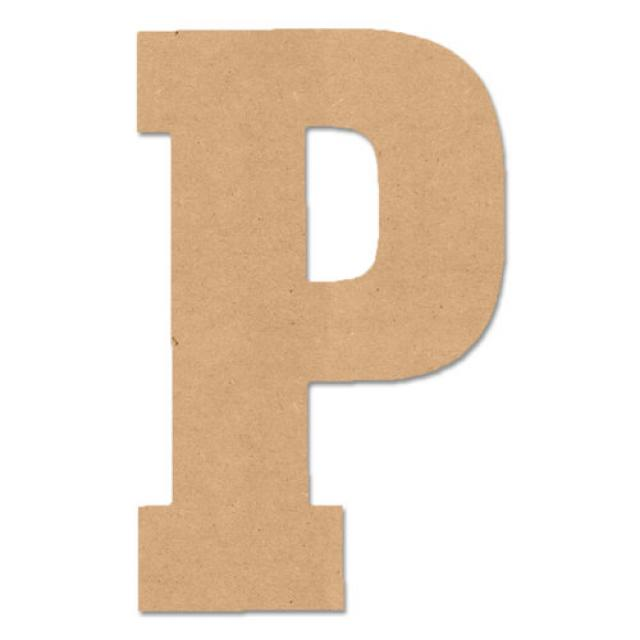P: (87, 1, 530, 637)
